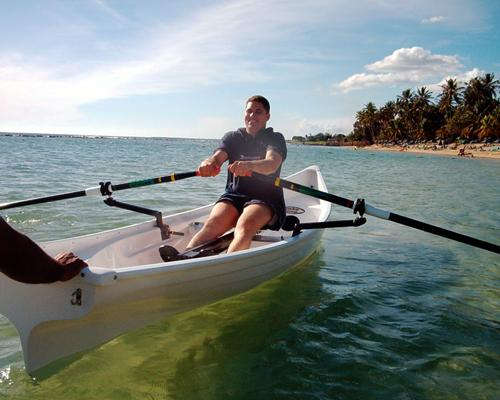person: (160, 96, 290, 260)
